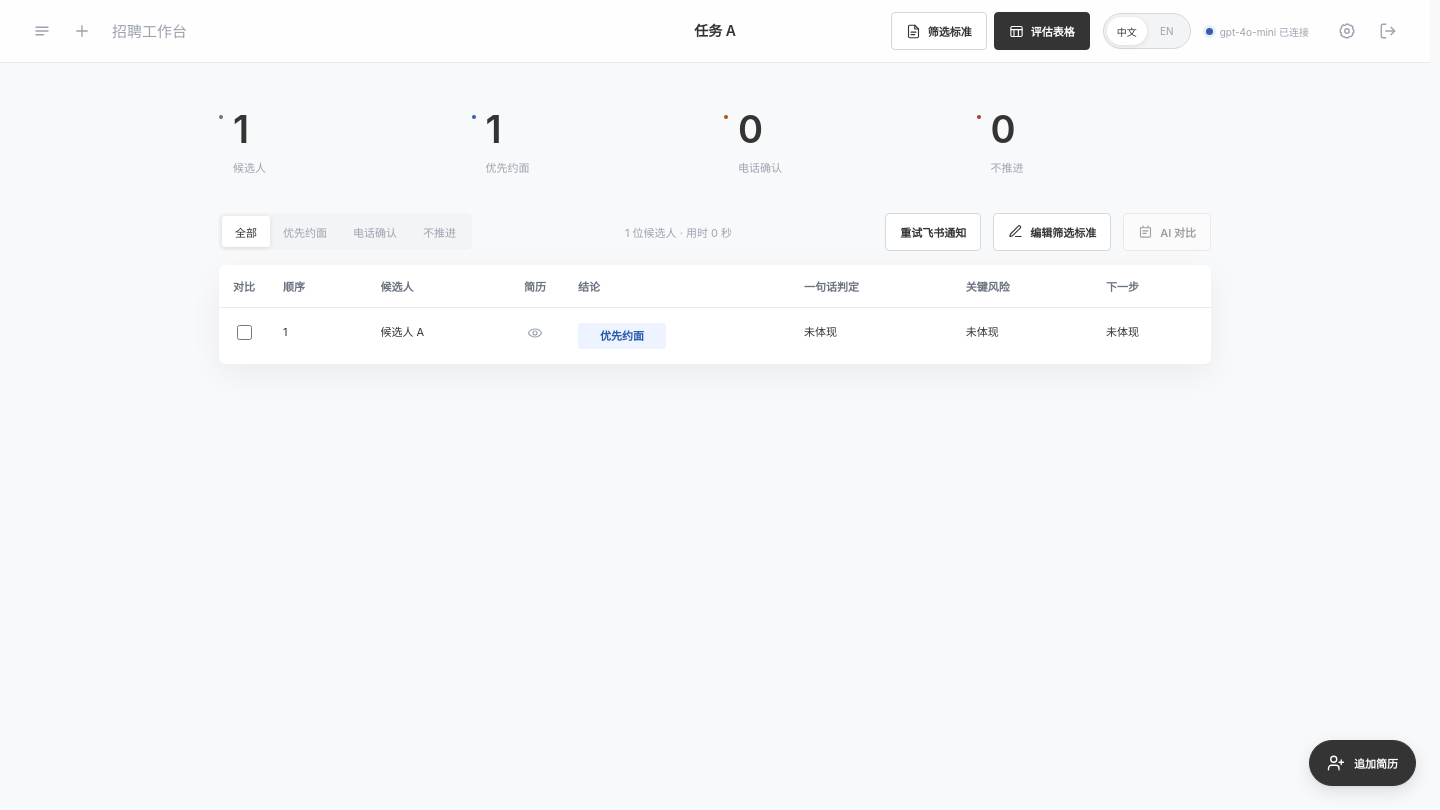
Scenario: 顶栏动作 › 最新筛选任务请求失败时清除旧任务并回到初始页
Click the button named "打开最近任务". click: (42, 31)
box: 24,13 -> 60,49
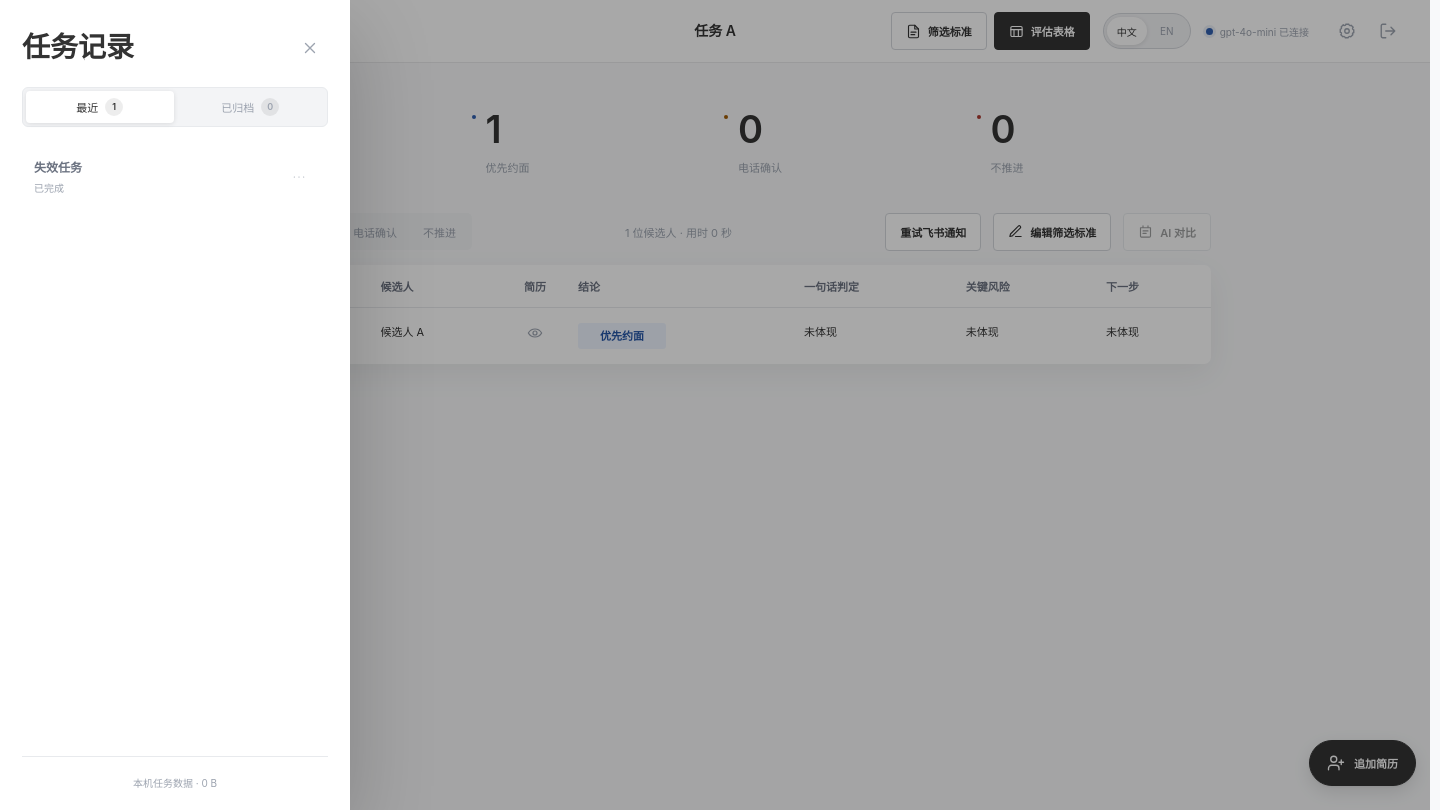
Click the button "失效任务 已完成". click: (58, 168)
box: 22,145 -> 284,208
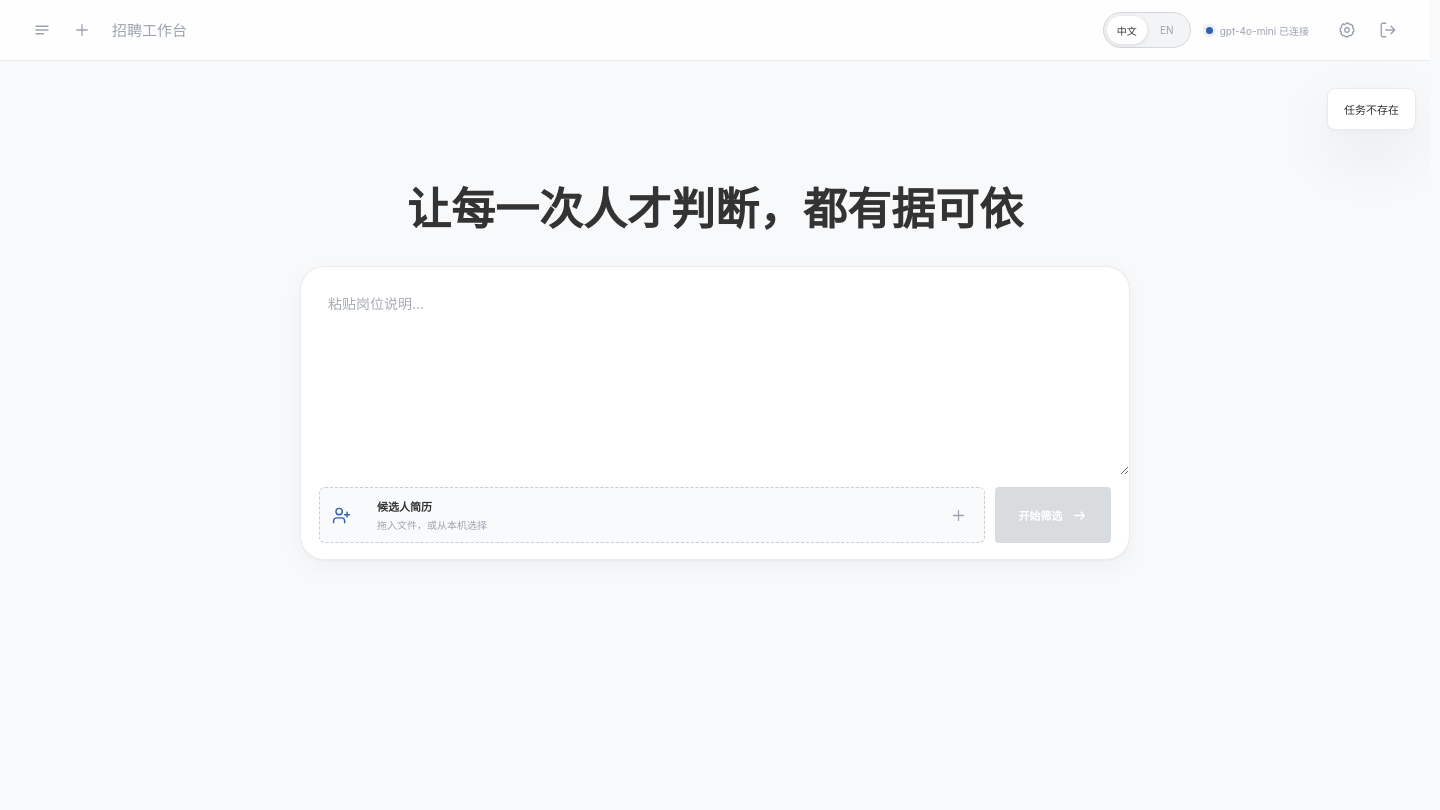
Now the text "任务不存在" is shown, box 1327,88 -> 1416,130
